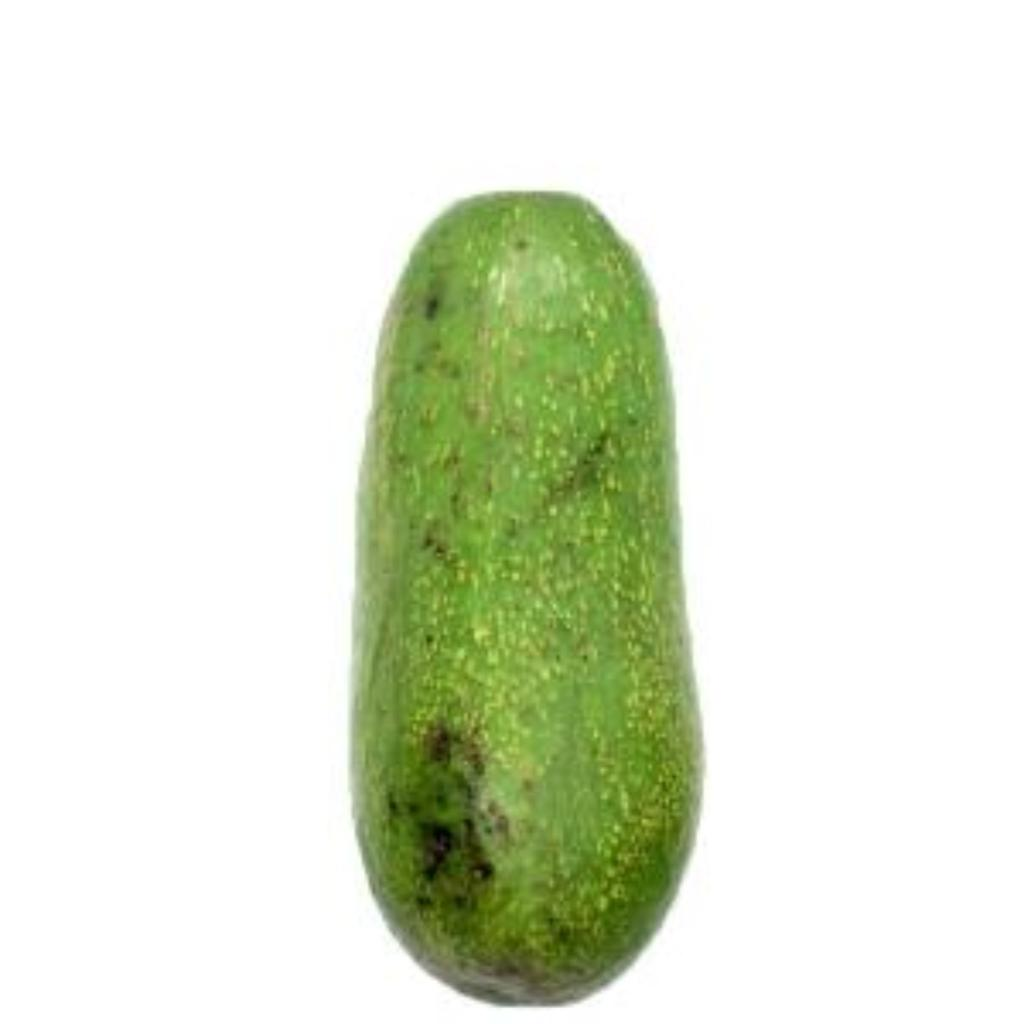cercospora_spot: (323, 170, 729, 1012)
